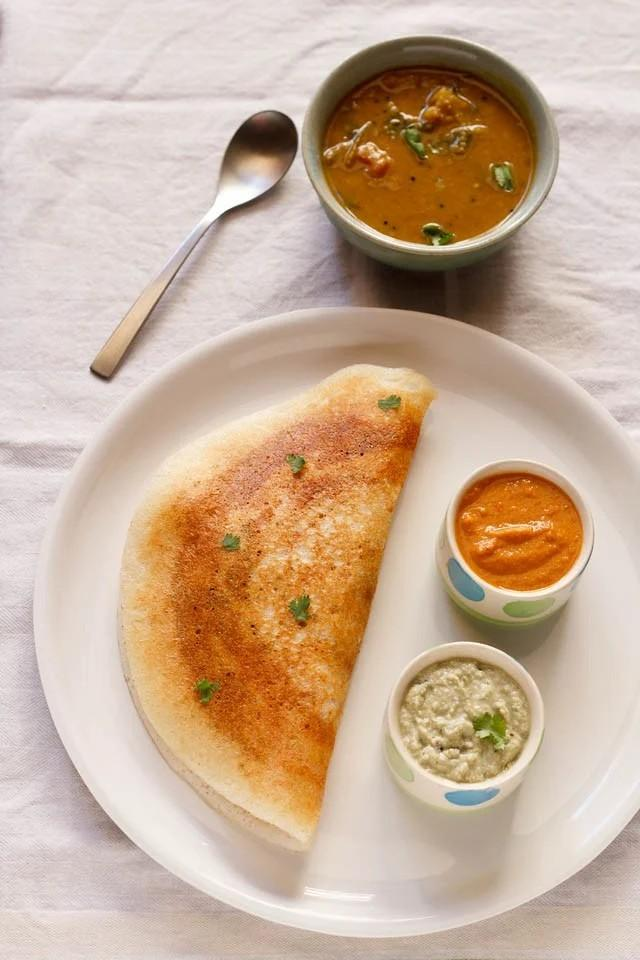CoconutChutney: (400, 657, 531, 784)
Dosa: (113, 365, 430, 856)
